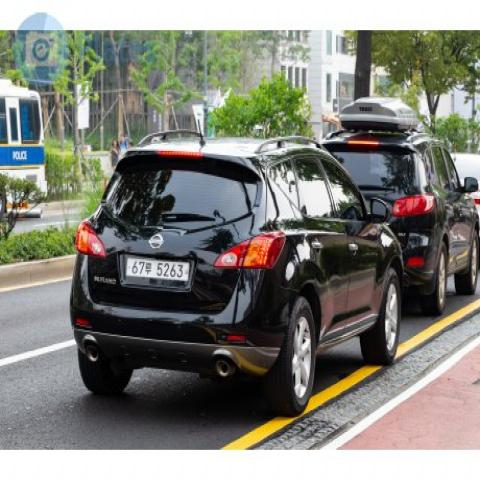LP: (117, 247, 200, 292)
